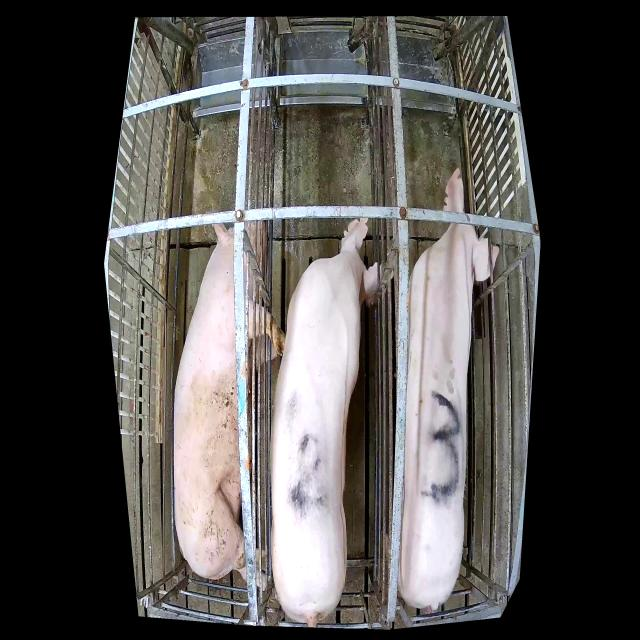pig: (381, 167, 500, 611), (271, 218, 382, 626), (174, 210, 285, 592)
